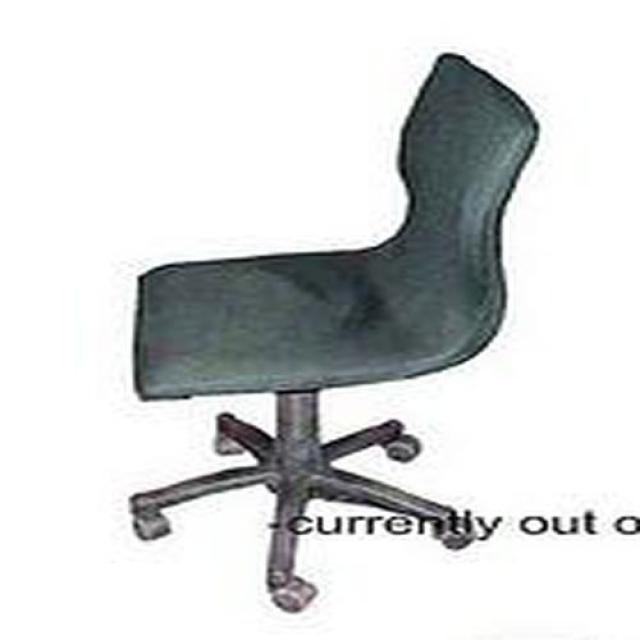swivelchair: (127, 54, 540, 616)
